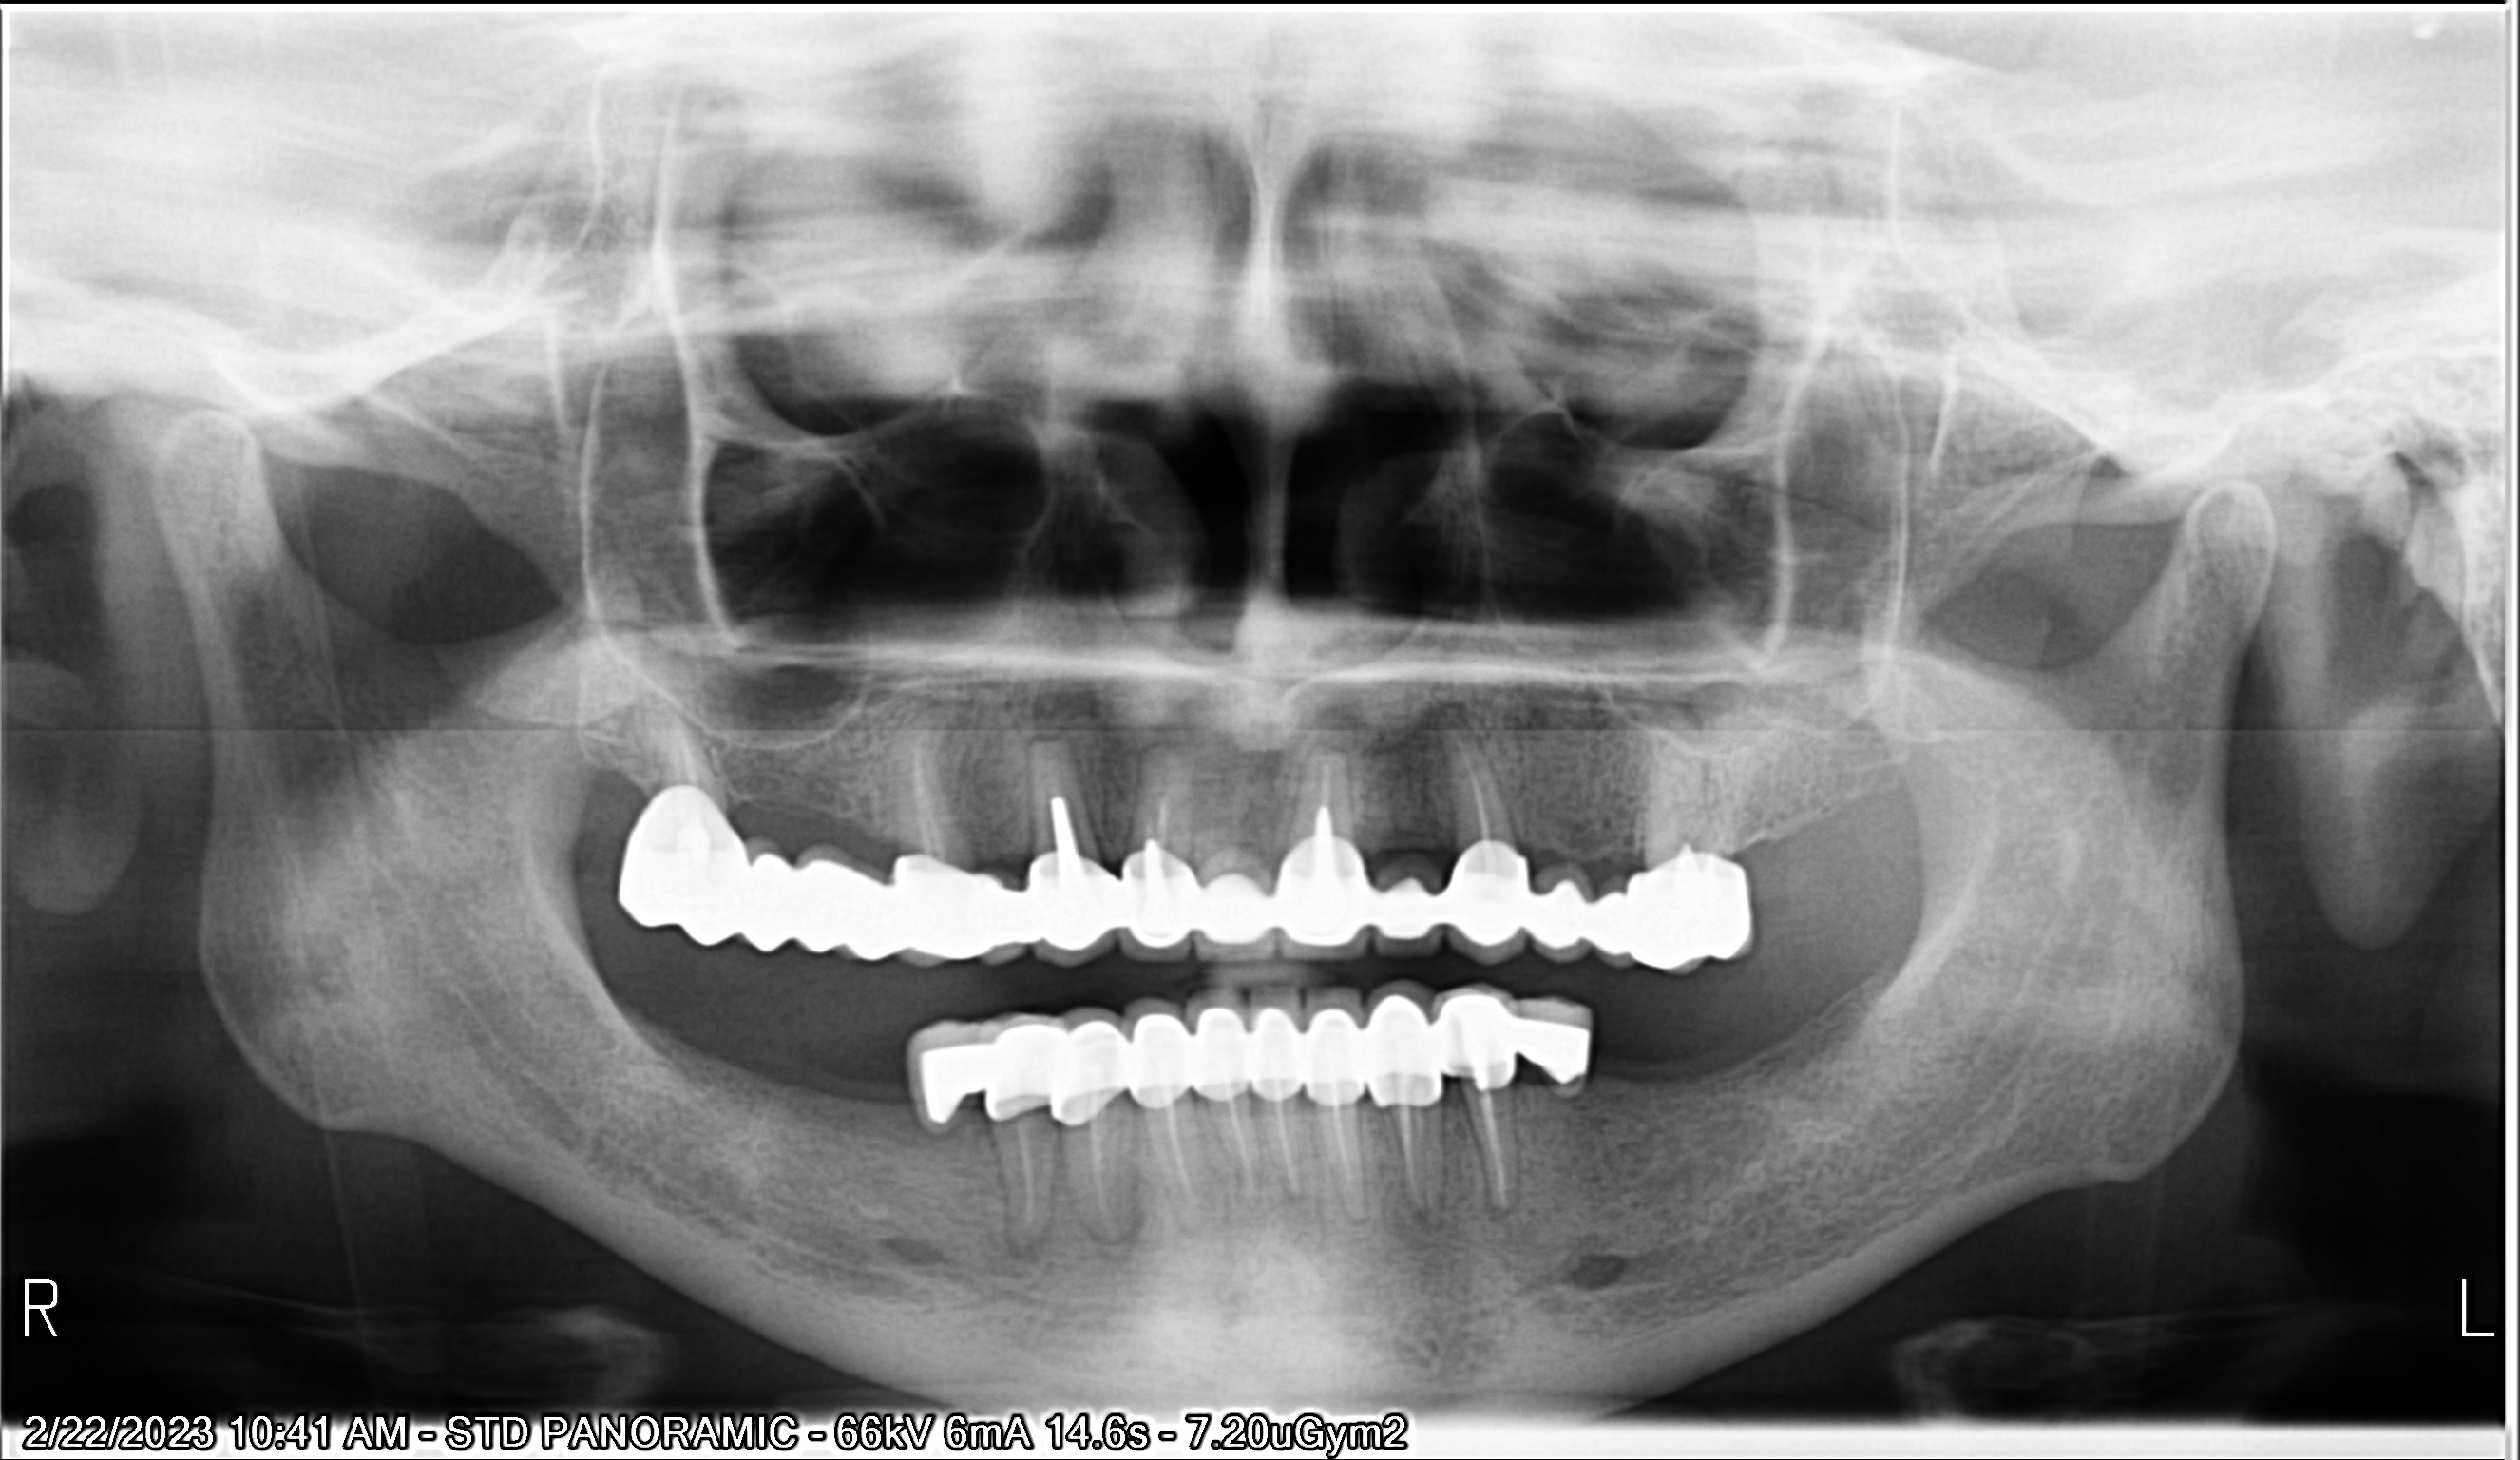END: (1374, 1065, 1428, 1222), (1459, 1062, 1516, 1206), (893, 739, 952, 869), (1313, 1053, 1365, 1201), (1257, 1072, 1311, 1199), (1217, 1081, 1268, 1213), (1151, 1090, 1198, 1224), (1080, 1102, 1124, 1239), (1457, 751, 1506, 873), (653, 704, 712, 800), (1131, 793, 1186, 892), (1039, 779, 1084, 876), (1009, 1114, 1046, 1234), (1299, 780, 1342, 873)
PRR: (750, 846, 1023, 961), (1523, 848, 1765, 977), (611, 773, 752, 958), (1244, 991, 1448, 1109), (1068, 991, 1242, 1125), (912, 999, 1063, 1142), (1025, 846, 1198, 963), (1448, 991, 1598, 1095), (1275, 836, 1374, 970), (1438, 841, 1528, 965), (1198, 850, 1275, 963), (1370, 850, 1438, 961)
